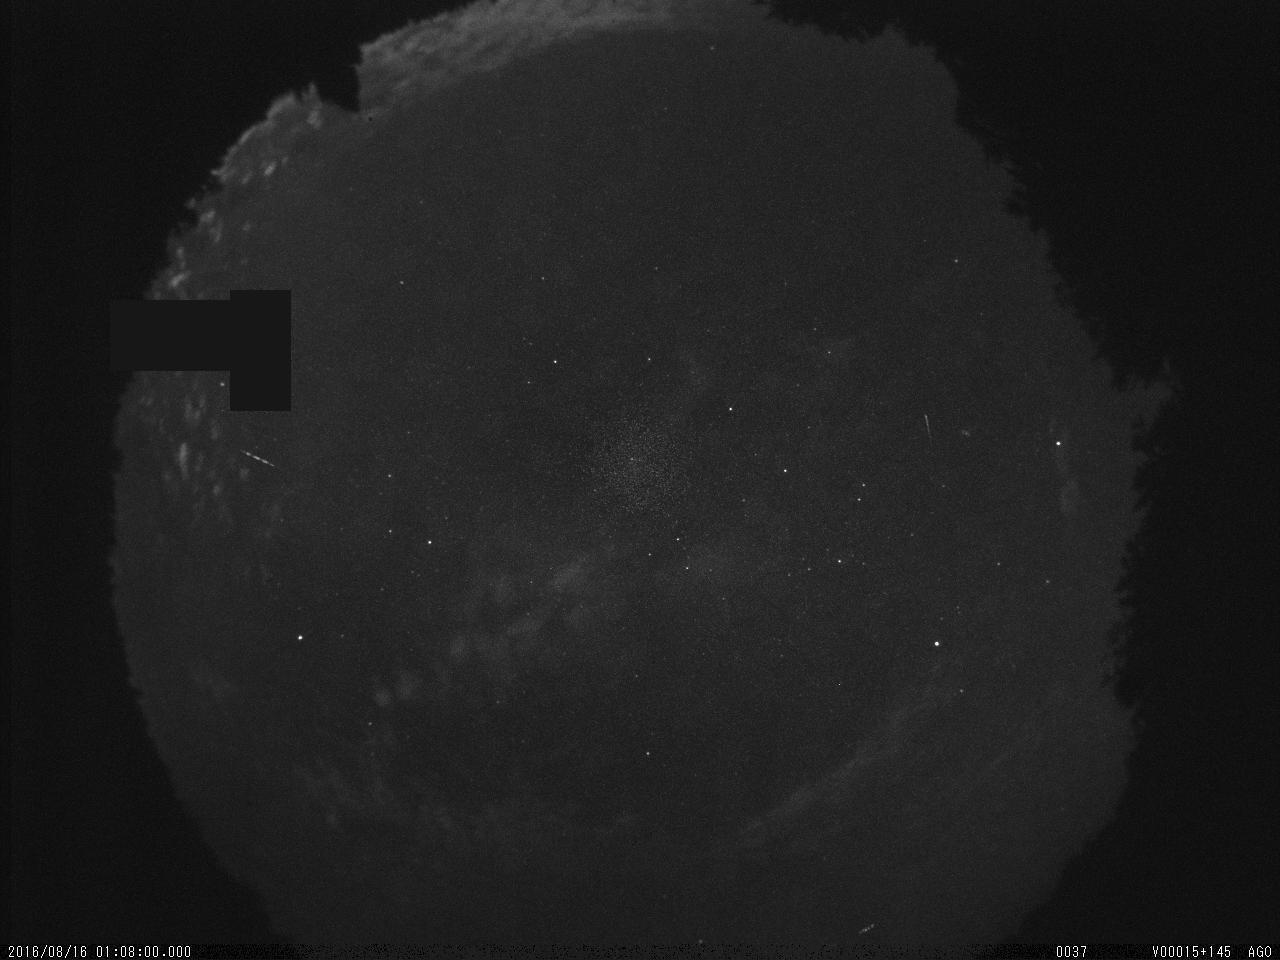meteor: (907, 405, 952, 449)
